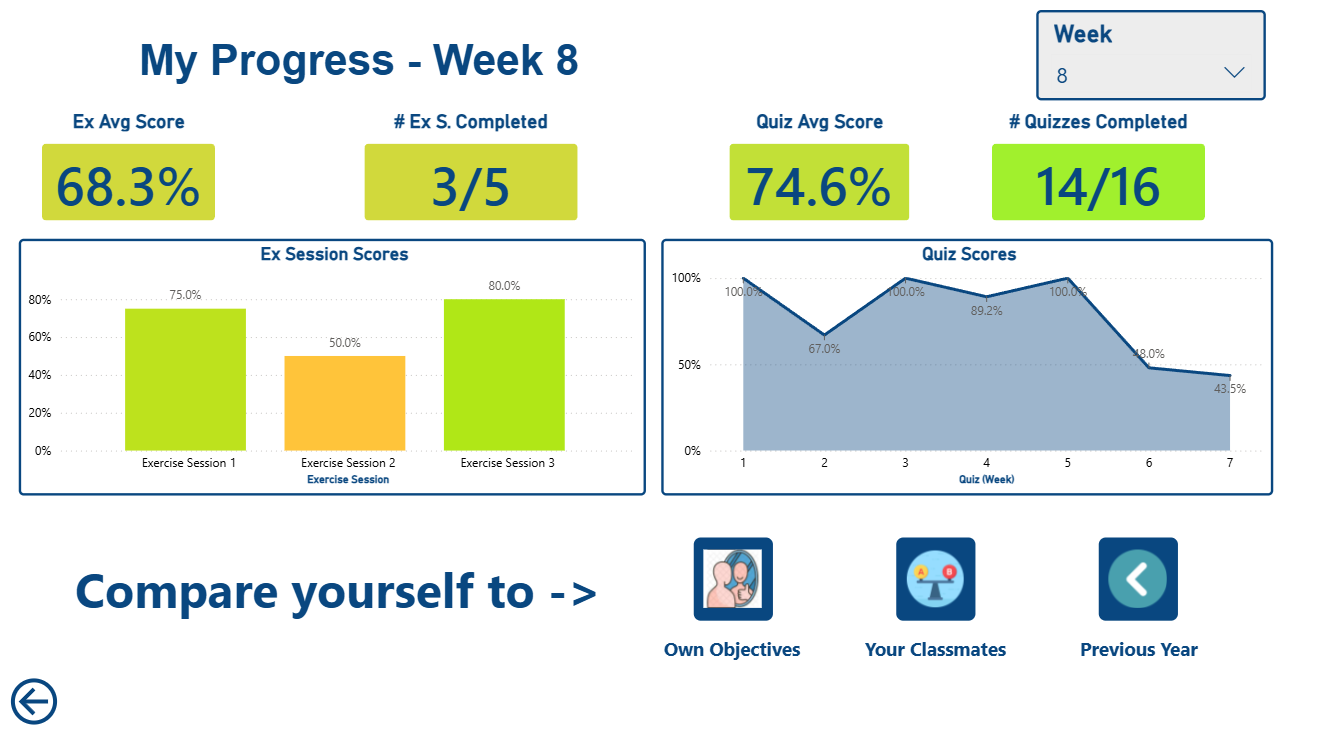

Layout of this report page (visuals, bound fields, positions):
{"tool":"powerbi","page":{"name":"My Progress","canvas":[1280,720],"ordinal":2},"visuals":[{"type":"slicer","fields":{"Values":["WeekTable.Value"]},"box":[1031.6,0,229.3,90.4],"z":2000},{"type":"actionButton","title":"hjfjhg","box":[891.4,528.1,78.8,83.3],"z":3000},{"type":"lineChart","title":"Quiz Scores","fields":{"Category":["Quiz Table.QuizWeek"],"Y":["Quiz Table.Cumulative Average Score"]},"box":[656.4,228.4,611.6,257],"z":4000},{"type":"card","fields":{"Values":["Objectives.Selected Week Title2"]},"box":[107.5,0,493.4,94.9],"z":5000},{"type":"actionButton","title":"hjfjhg","box":[1093.4,528.1,78.8,83.3],"z":6000},{"type":"actionButton","title":"hjfjhg","box":[688.5,528.1,78.8,83.3],"z":7000},{"type":"cardVisual","title":"Quiz Avg Score","fields":{"Data":["Quiz Table.Cumulative Average Score"]},"box":[707.5,100.3,214.9,128.1],"z":8000},{"type":"cardVisual","title":"# Quizzes Completed","fields":{"Data":["Quiz Table.QuizCompletion rate"]},"box":[969.9,100.3,247.2,128.1],"z":9000},{"type":"clusteredColumnChart","title":"Ex Session Scores","fields":{"Category":["Ex Table.Exercise Session"],"Y":["Ex Table.Cumulative Average Ex Score"]},"box":[13.4,228.4,626.9,257],"z":10000},{"type":"cardVisual","title":"Ex Avg Score","fields":{"Data":["Ex Table.Cumulative Average Ex Score"]},"box":[19.7,100.3,207.8,128.1],"z":11000},{"type":"cardVisual","title":"# Ex S. Completed","fields":{"Data":["Ex Table.ExCompletion rate"]},"box":[343,100.3,247.2,128.1],"z":12000},{"type":"actionButton","box":[0,662.2,81.5,58],"z":13000},{"type":"textbox","box":[65.2,540.8,556.2,93.3],"z":15000},{"type":"textbox","box":[653.1,621.4,151.3,40.8],"z":21000},{"type":"textbox","box":[855.1,621.4,151.3,40.8],"z":22000},{"type":"textbox","box":[1069.8,621.4,151.3,40.8],"z":23000}]}

Visuals, with their boxes in screenshot pixels (x1, y1, x2, y2), scaled from the page's 1280x720 canvas onto the 1332x731 screenshot:
slicer - WeekTable.Value: [x1=1074, y1=0, x2=1312, y2=92]
"hjfjhg" actionButton: [x1=928, y1=536, x2=1010, y2=621]
"Quiz Scores" lineChart: [x1=683, y1=232, x2=1320, y2=493]
card - Objectives.Selected Week Title2: [x1=112, y1=0, x2=625, y2=96]
"hjfjhg" actionButton: [x1=1138, y1=536, x2=1220, y2=621]
"hjfjhg" actionButton: [x1=716, y1=536, x2=798, y2=621]
"Quiz Avg Score" cardVisual: [x1=736, y1=102, x2=960, y2=232]
"# Quizzes Completed" cardVisual: [x1=1009, y1=102, x2=1267, y2=232]
"Ex Session Scores" clusteredColumnChart: [x1=14, y1=232, x2=666, y2=493]
"Ex Avg Score" cardVisual: [x1=21, y1=102, x2=237, y2=232]
"# Ex S. Completed" cardVisual: [x1=357, y1=102, x2=614, y2=232]
actionButton: [x1=0, y1=672, x2=85, y2=730]
textbox: [x1=68, y1=549, x2=647, y2=644]
textbox: [x1=680, y1=631, x2=837, y2=672]
textbox: [x1=890, y1=631, x2=1047, y2=672]
textbox: [x1=1113, y1=631, x2=1271, y2=672]
